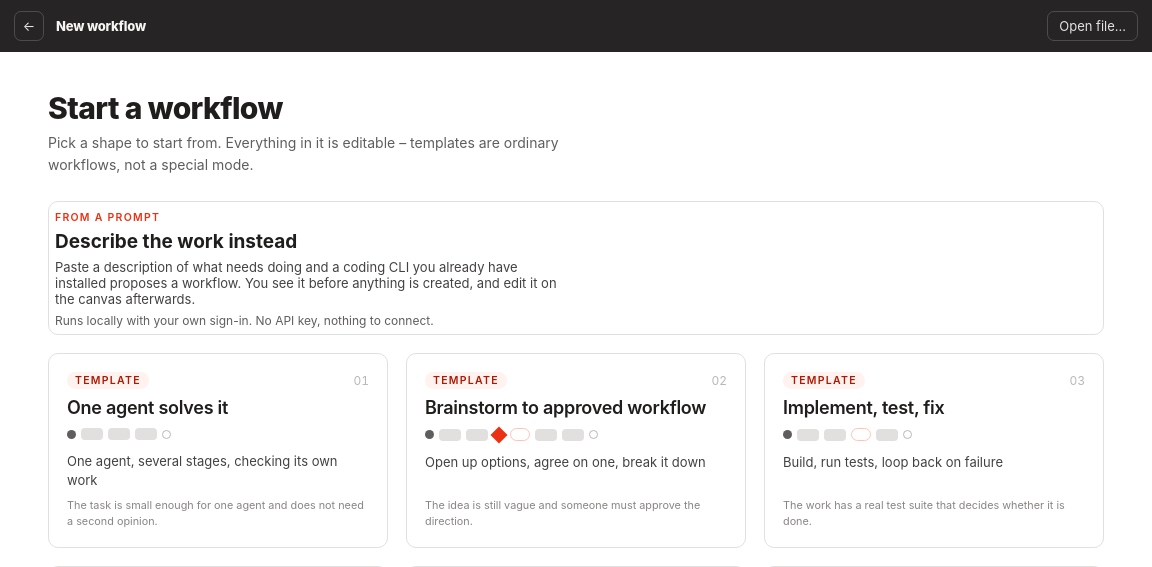
Test: agents as a library › keeps agents reachable from the left rail, not a contextual tab
Step 1. Click the button "Implement, test, fix" → (824, 381), box [764,353,1104,548]
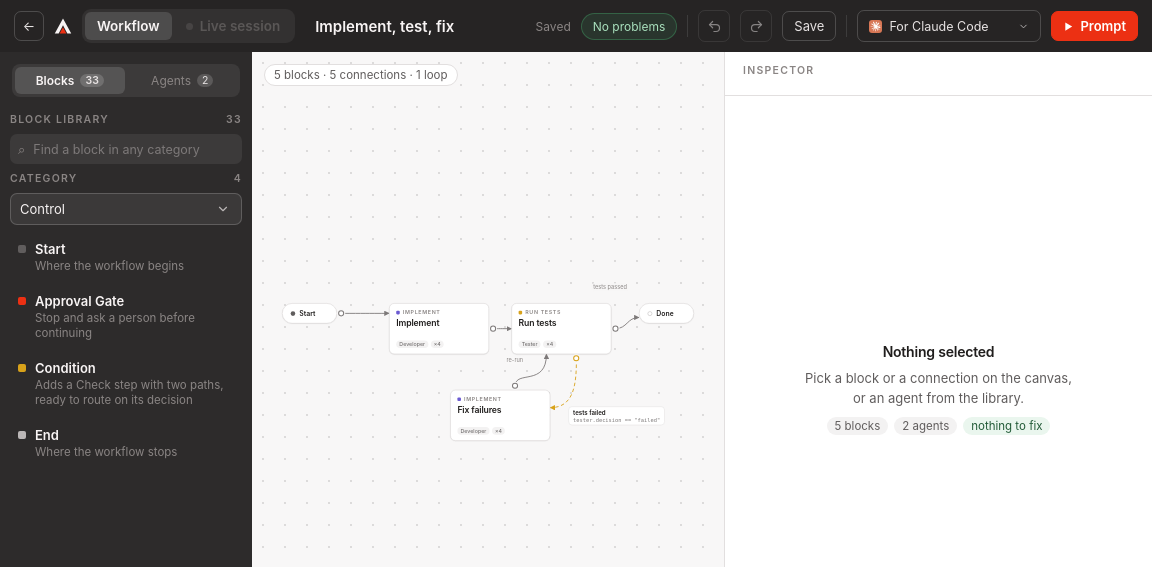
Expected: the button "Prompt" is shown, [1051,11,1138,41]
Step 2. Click the tab "Agents 2" → (182, 80), box [128,67,237,94]
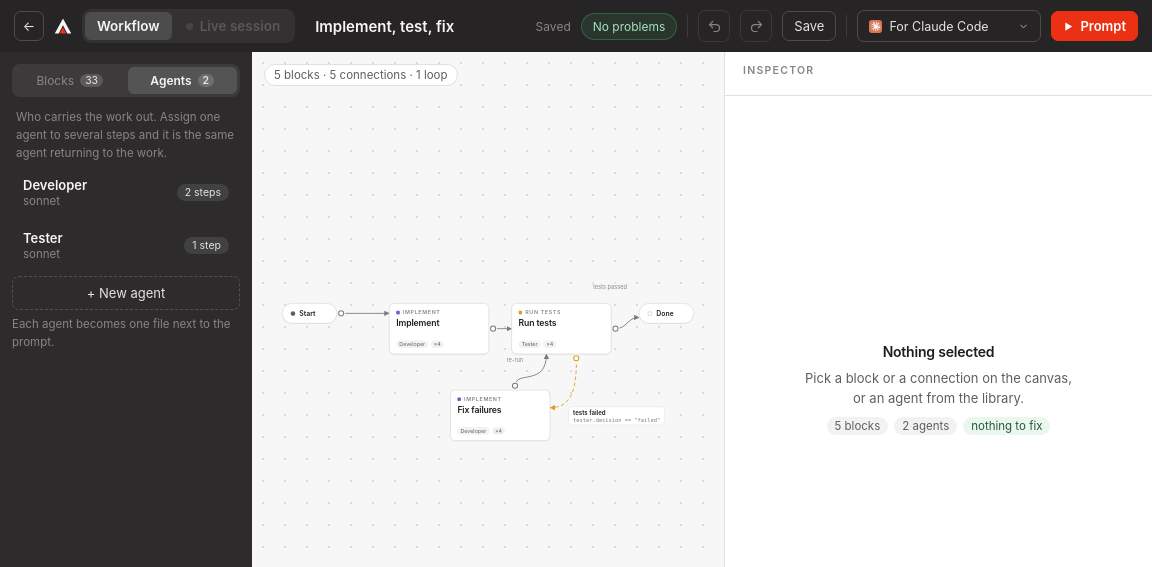
Expected: the element with class "agent-rail" is shown, [12,110,240,349]
Expected: the button "+ New agent" is shown, [12,276,240,310]
